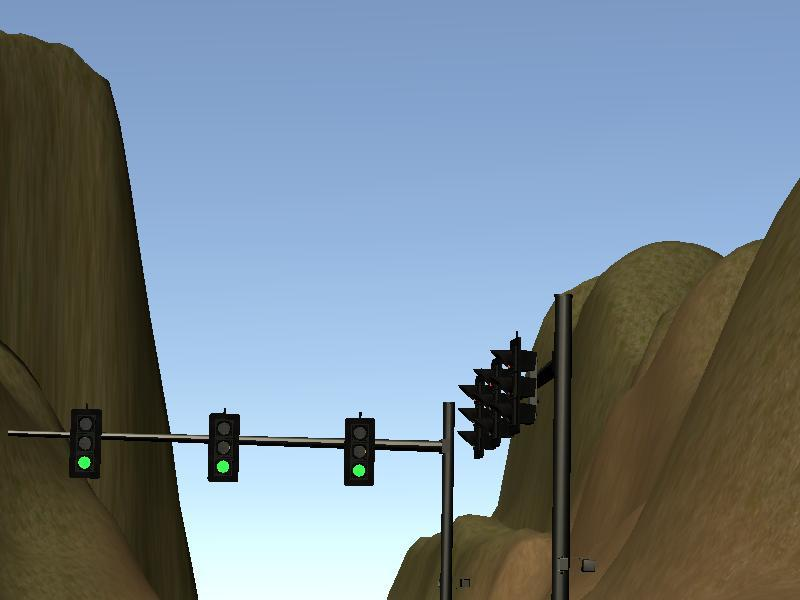Green: (69, 407, 101, 481), (343, 417, 376, 486), (207, 413, 239, 484)
